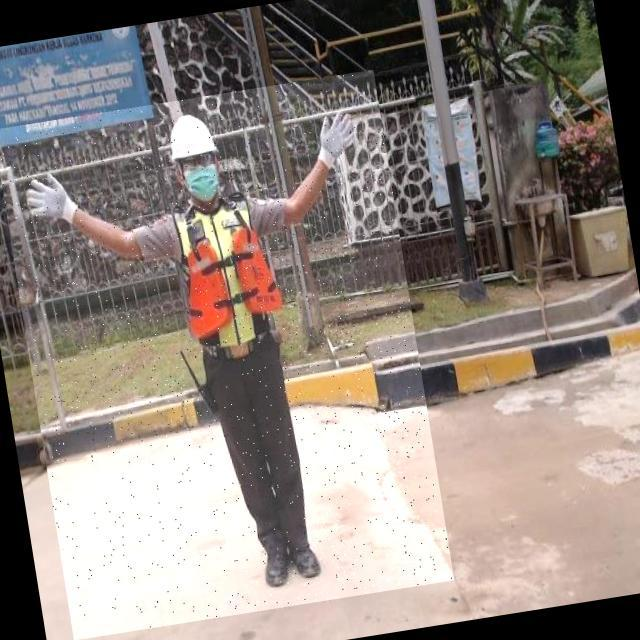Gloves: (24, 164, 92, 237), (315, 100, 361, 177)
Helmet: (169, 117, 220, 167)
Person: (9, 84, 377, 609)
Safety Boot: (260, 541, 296, 593), (287, 541, 324, 587)
Safety Vest: (170, 197, 290, 355)
